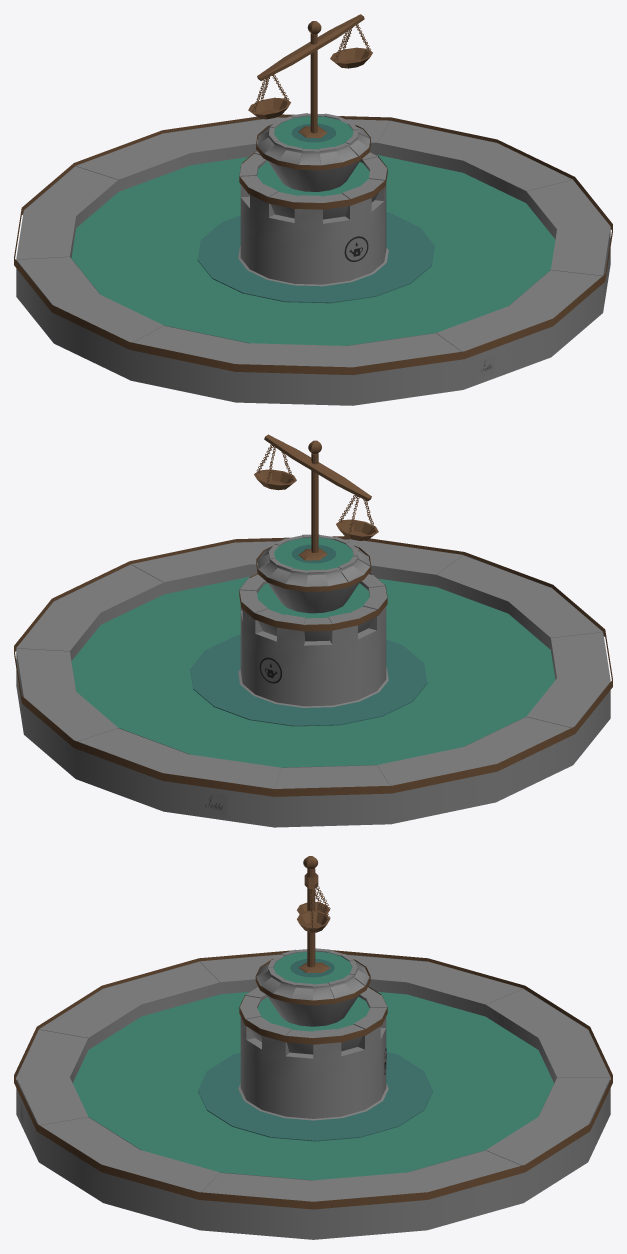
File: 1fuente_justicia_desquilibrada.fbx
3 renders of one model, top to bottom at view 1: azimuth 30°, elevation 25°; view 2: azimuth 150°, elevation 25°; view 3: azimuth 270°, elevation 25°, orthographic.
Visible parts, largest first — view 1: fuente.004, fuente.002, fuente.005, fuente.006, fuente.007; view 2: fuente.004, fuente.002, fuente.005, fuente.006, fuente.007, Plane.002; view 3: fuente.004, fuente.002, fuente.007.
Part boxes in pixels (x1,y1,x2,y2): fuente.004: [14, 21, 612, 405]; fuente.002: [71, 116, 555, 345]; fuente.005: [257, 14, 364, 80]; fuente.006: [248, 75, 290, 119]; fuente.007: [330, 24, 372, 68]; fuente.004: [14, 440, 612, 827]; fuente.002: [71, 537, 555, 767]; fuente.005: [264, 434, 371, 501]; fuente.006: [336, 495, 378, 540]; fuente.007: [254, 444, 296, 490]; Plane.002: [202, 791, 226, 817]; fuente.004: [14, 856, 612, 1239]; fuente.002: [73, 951, 553, 1180]; fuente.007: [297, 889, 330, 932].
Bounding box in the file's own units: 201 × 96.16 × 201.
Materials: 8 (2 with a texture image).
